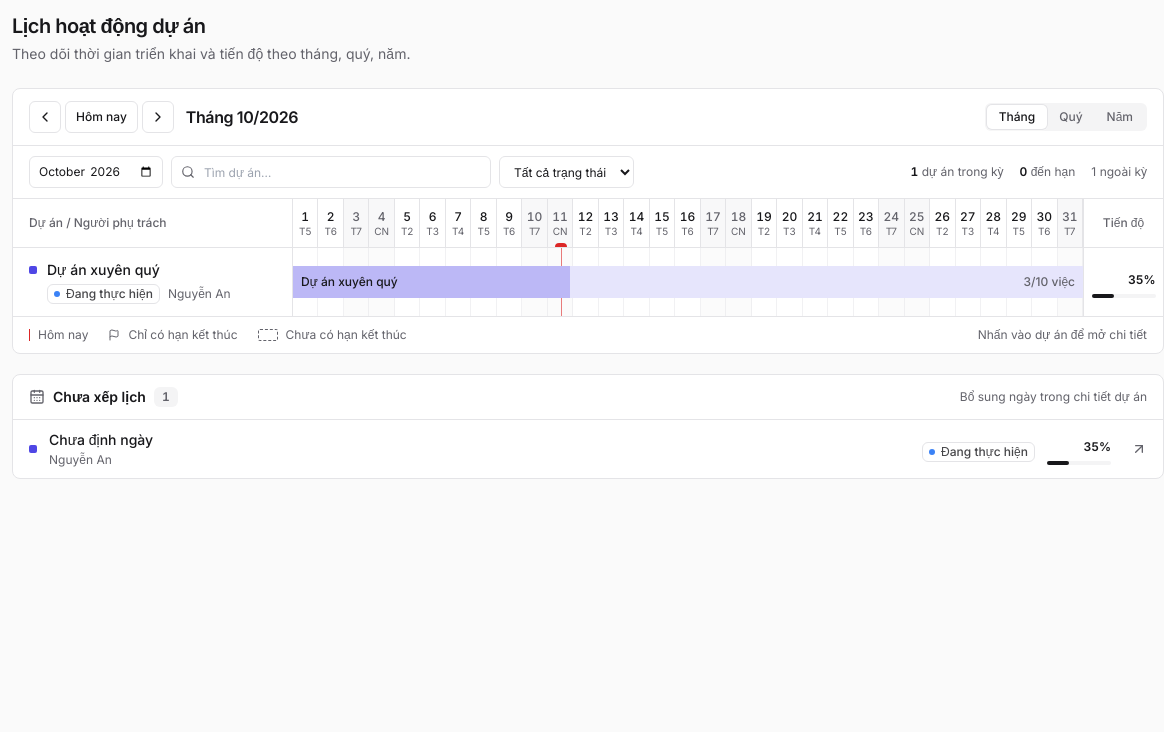
Scenario: switches month, quarter and year while keeping unscheduled projects accessible
Expected: the heading "Tháng 10/2026" is shown, [186,105,298,129]
Expected: the text "Chưa định ngày" is shown, [49,431,153,448]
Click the button "Quý" at (1071, 117), box [1047,105,1094,129]
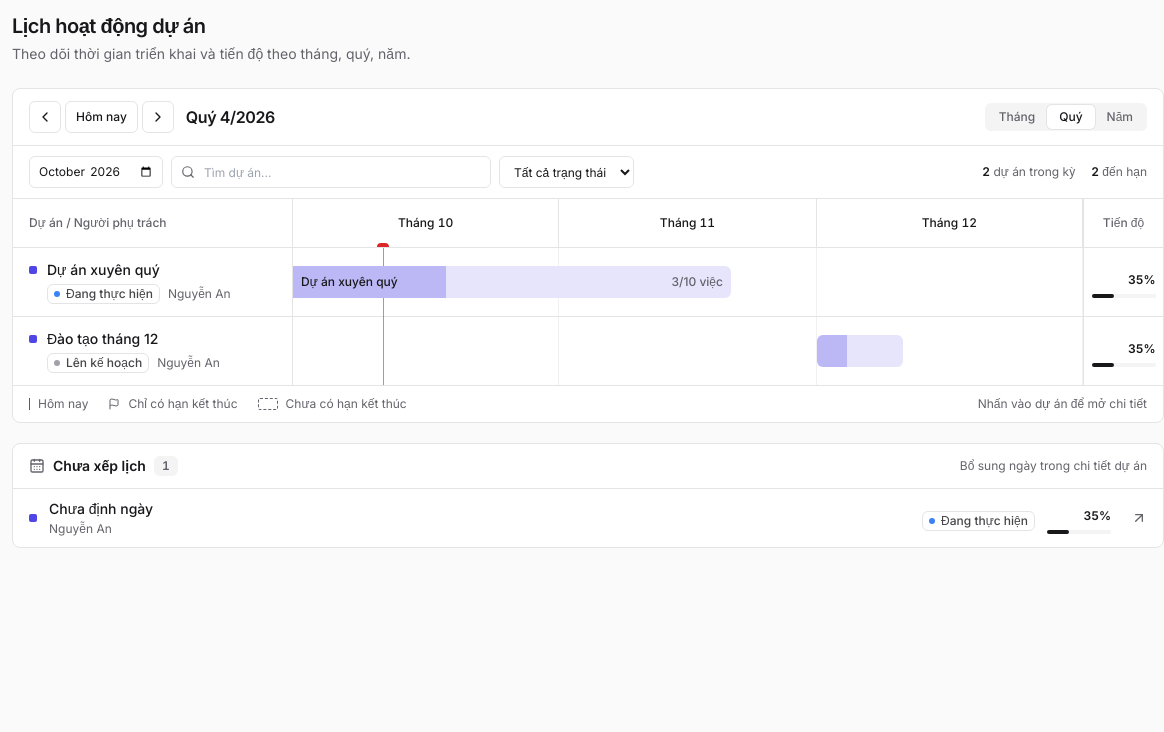
Now the heading "Quý 4/2026" is shown, box [186,105,275,129]
Click the button "Năm" at (1120, 117), box [1095,105,1145,129]
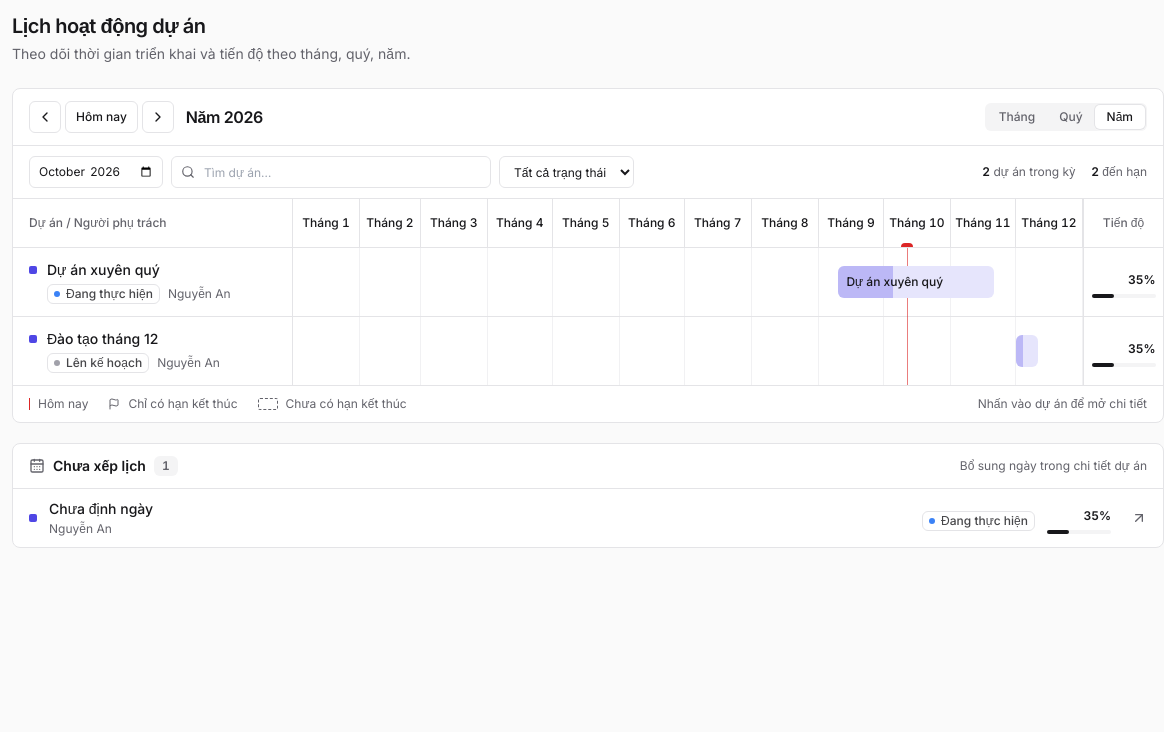
Expected: the field named "Chọn tháng" holds "2026-10", [29,156,163,188]
Now the heading "Năm 2026" is shown, box [186,105,263,129]
